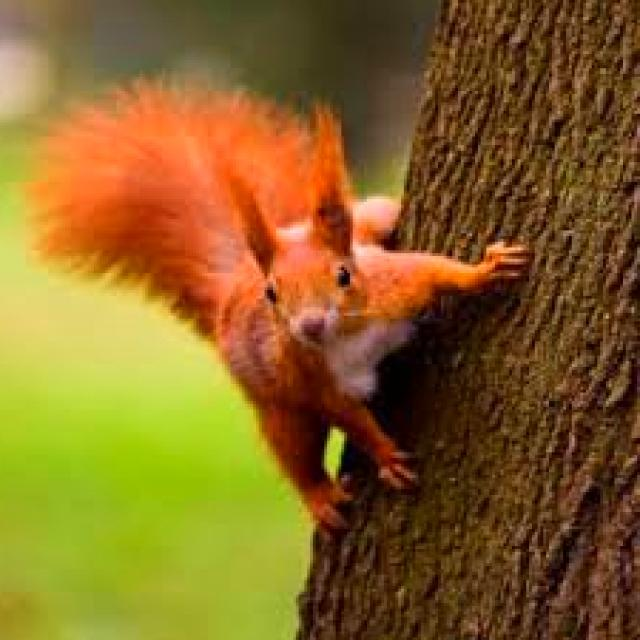squirrel: (34, 82, 529, 526)
